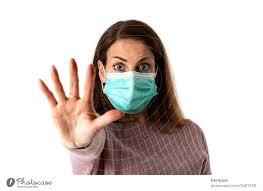masked: (88, 17, 174, 117)
